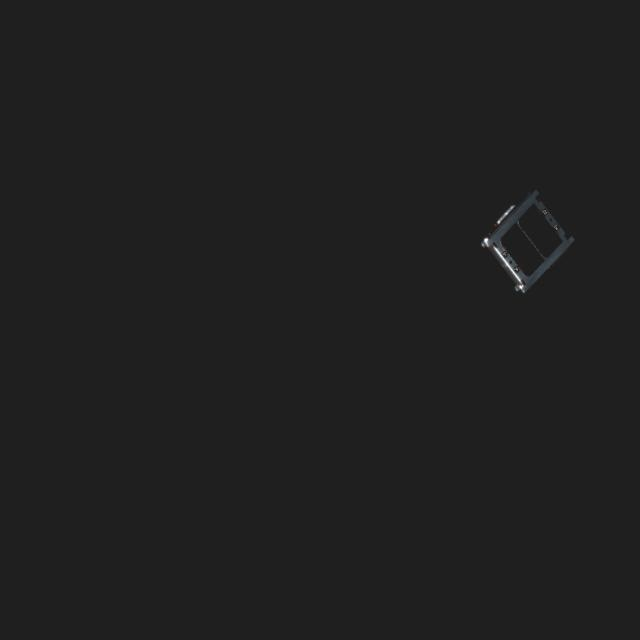satellite: (480, 193, 580, 293)
